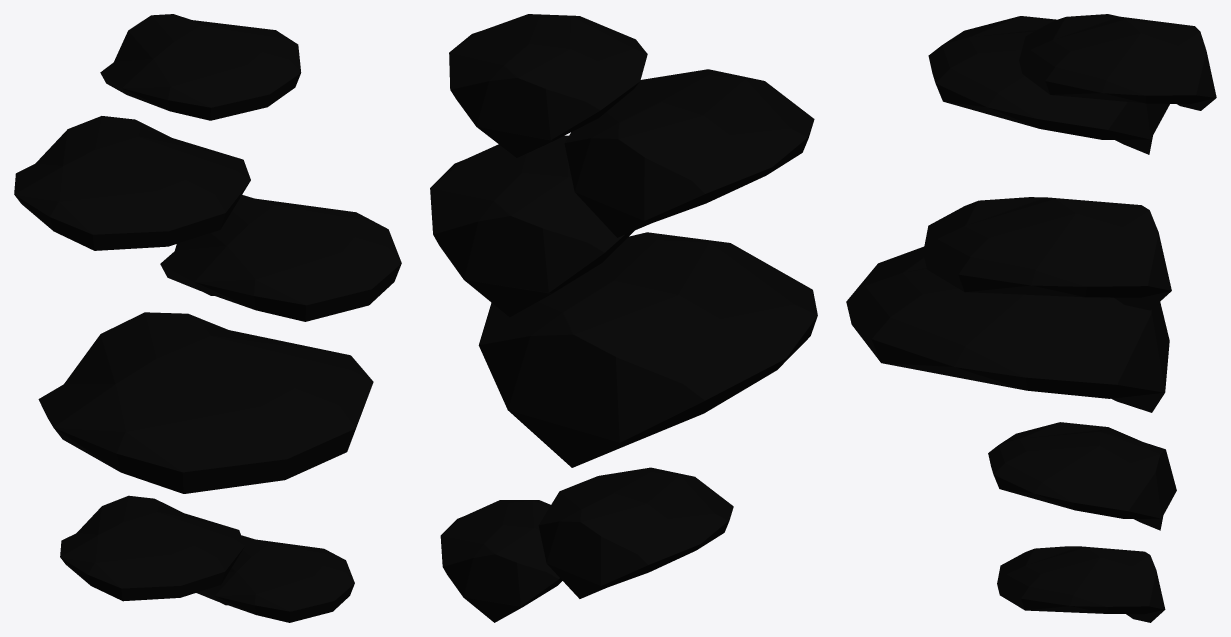
3 renders of one model, left to right at view 1: azimuth 30°, elevation 25°; view 2: azimuth 150°, elevation 25°; view 3: azimuth 270°, elevation 25°, orthographic. The views are drawn at different scales.
Visible parts, largest first — view 1: SM_Plant_Mushrooms_01; view 2: SM_Plant_Mushrooms_01; view 3: SM_Plant_Mushrooms_01.
Part boxes in pixels (x1=…): SM_Plant_Mushrooms_01: x1=14, y1=14, x2=401, y2=622; SM_Plant_Mushrooms_01: x1=430, y1=14, x2=817, y2=622; SM_Plant_Mushrooms_01: x1=846, y1=14, x2=1216, y2=622.
Size of the model in its own units: 0.3348 by 0.5427 by 0.3167.
Materials: 1 (1 with a texture image).
